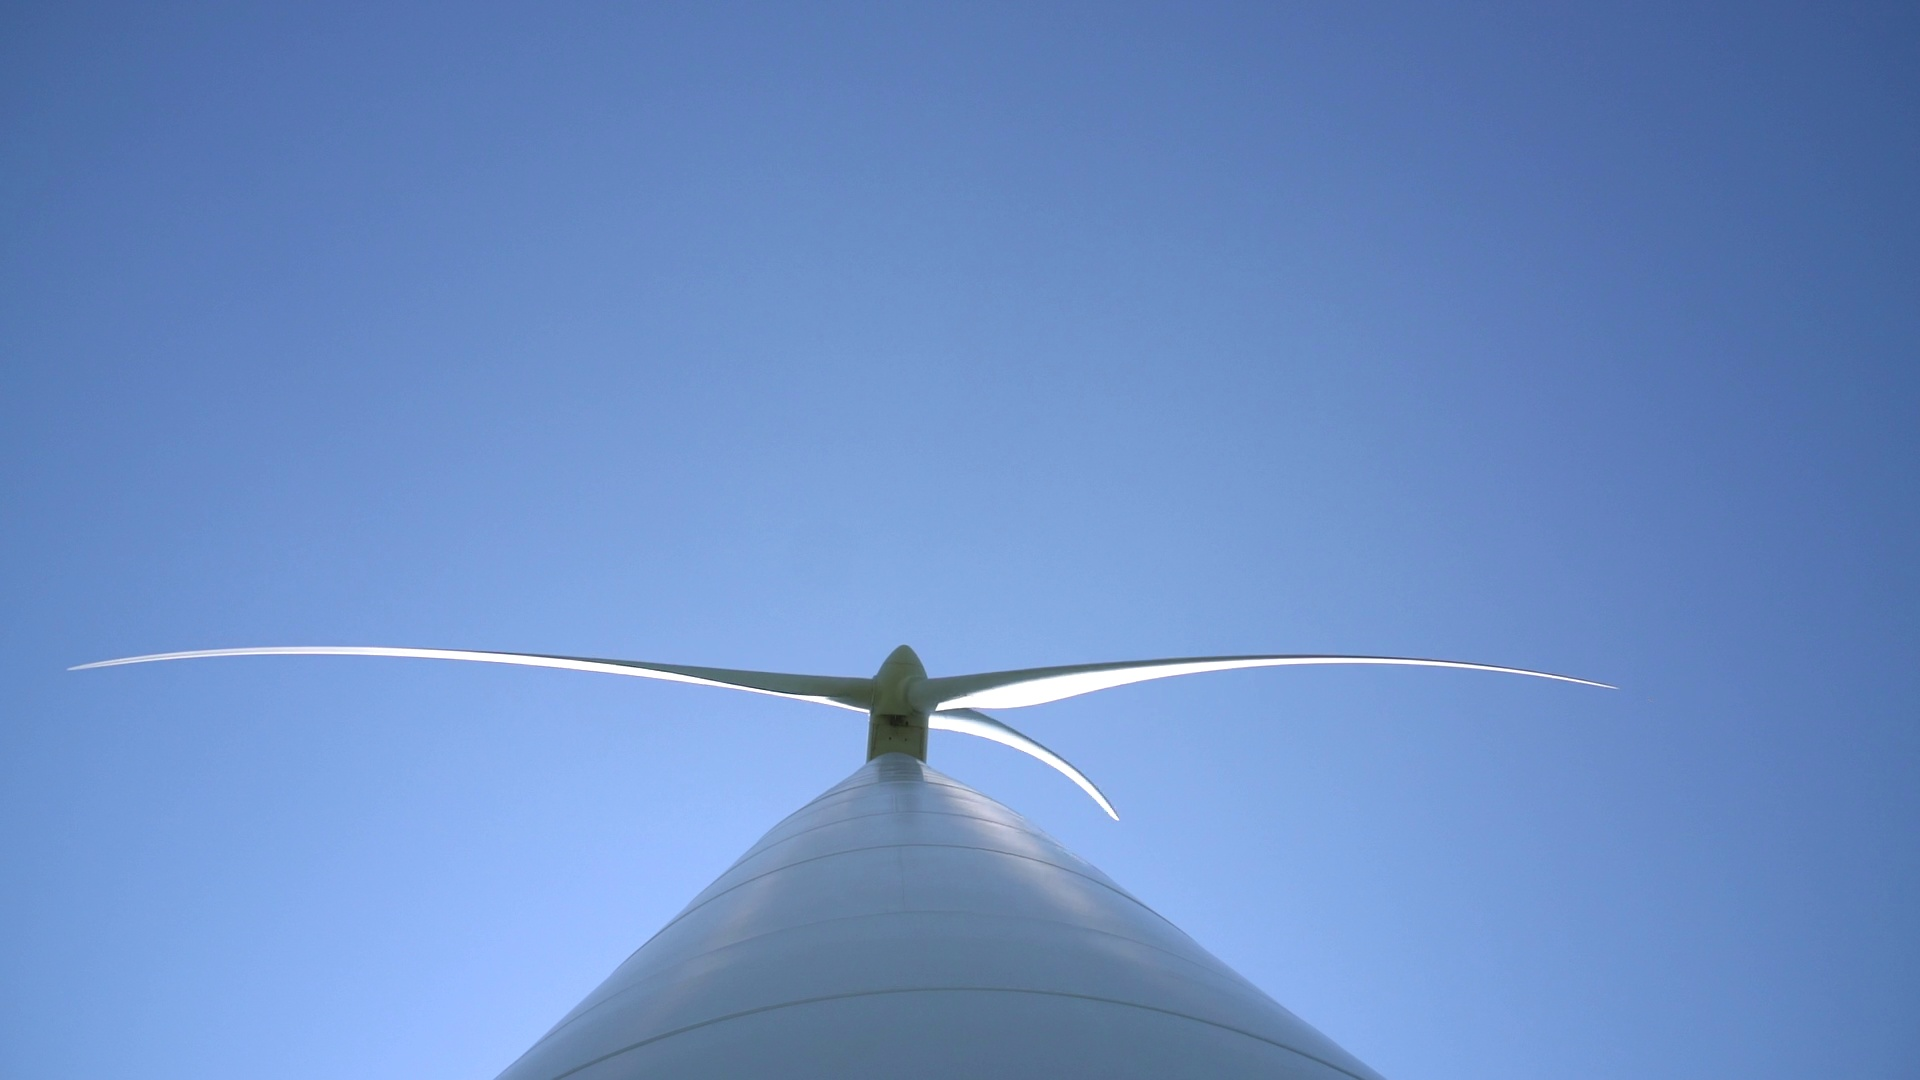turbine: (61, 622, 874, 724), (916, 630, 1631, 713), (920, 700, 1160, 825)
